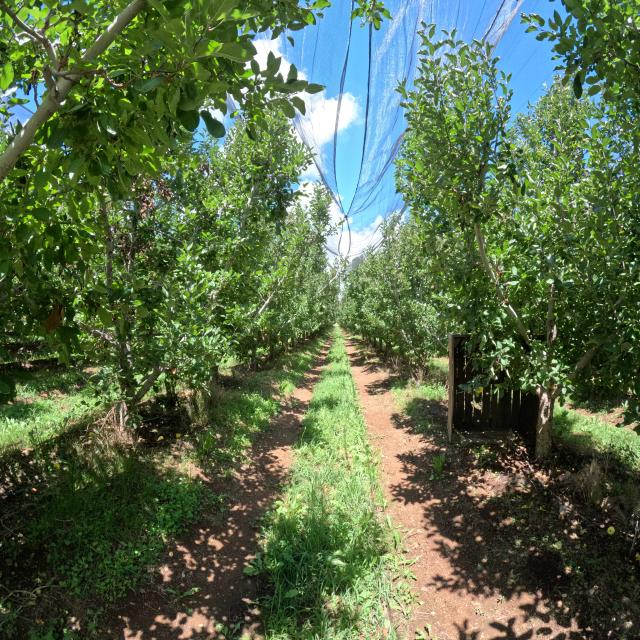-FireBlight-: (135, 174, 174, 219)
